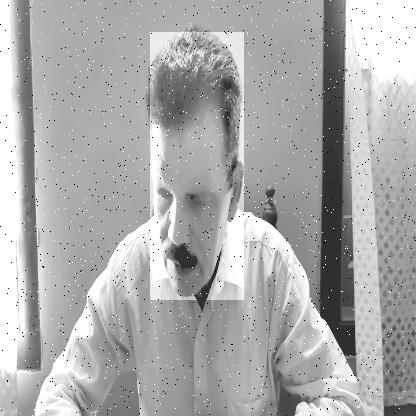Distracted: (150, 32, 244, 300)
